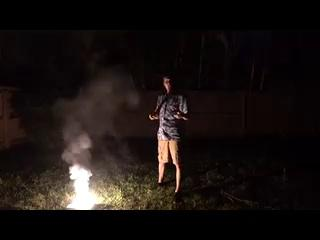Fire: (66, 166, 100, 209)
